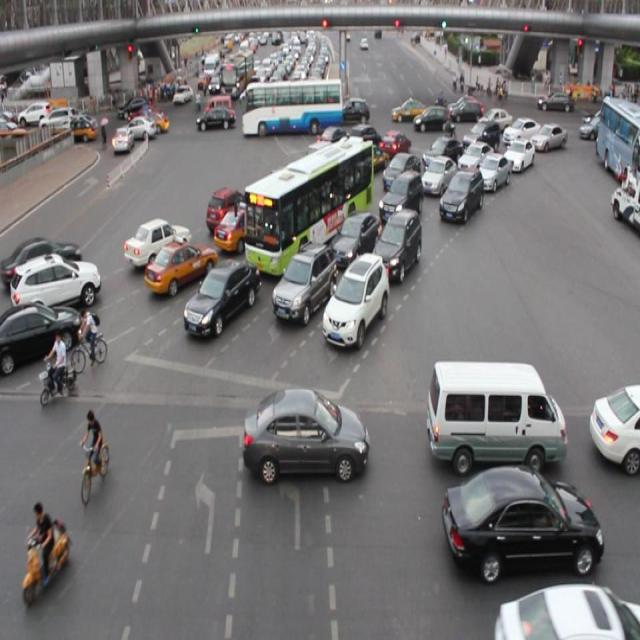car: (442, 464, 602, 577), (243, 387, 366, 482), (492, 580, 640, 640), (322, 252, 387, 348), (185, 258, 259, 333), (12, 253, 102, 311), (1, 302, 80, 366), (272, 241, 332, 321), (588, 383, 640, 470), (1, 237, 82, 290), (144, 240, 215, 296), (372, 208, 422, 280), (124, 218, 191, 267), (213, 202, 278, 252), (330, 212, 380, 268), (437, 167, 482, 222), (205, 188, 258, 233), (272, 179, 324, 224), (377, 171, 423, 219), (258, 167, 308, 210), (316, 160, 364, 201), (456, 141, 493, 180), (382, 153, 421, 190), (422, 137, 462, 172), (421, 155, 455, 195), (349, 141, 388, 174), (462, 121, 498, 156), (475, 153, 508, 191), (502, 118, 539, 149), (529, 123, 567, 151), (377, 130, 410, 162), (315, 125, 348, 157), (346, 125, 381, 155), (502, 138, 533, 171)
truck: (428, 360, 564, 470), (300, 142, 351, 186)
van: (245, 143, 372, 277)
